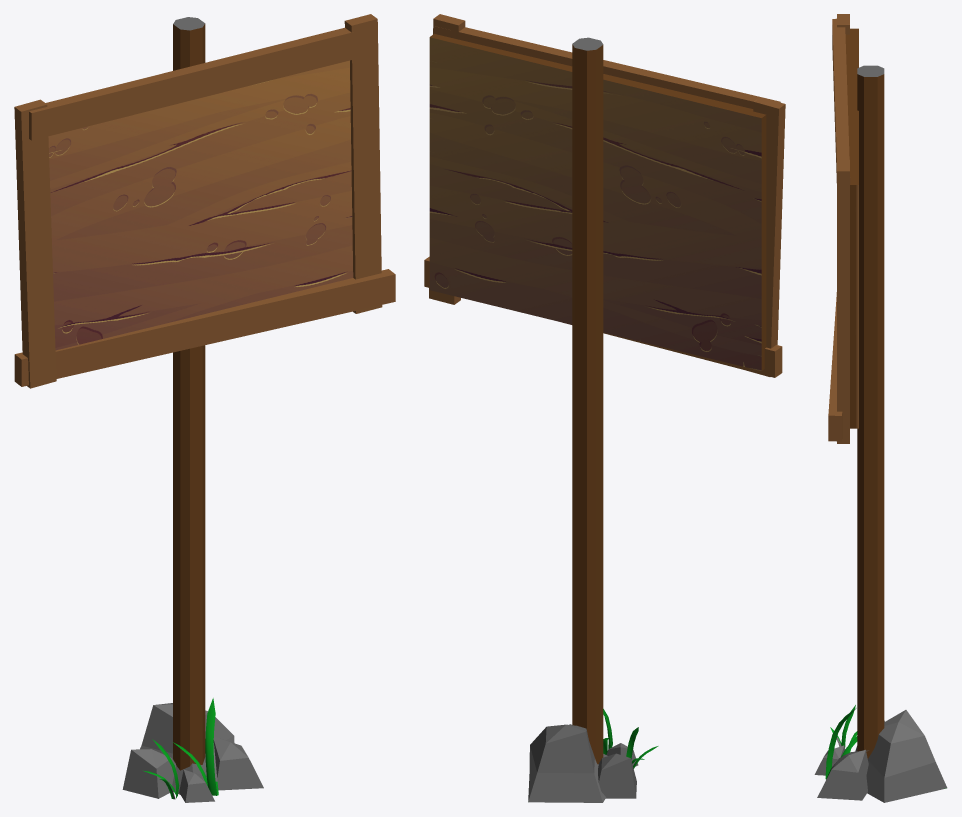
Rendered from SM_PlantNamePlate.fbx.
3 renders of one model, left to right at view 1: azimuth 30°, elevation 25°; view 2: azimuth 150°, elevation 25°; view 3: azimuth 270°, elevation 25°, orthographic. The views are drawn at different scales.
Parts seen in each view (by area): view 1: polySurface8; view 2: polySurface8; view 3: polySurface8.
Part boxes in pixels (box(x1,y1,x2,y2)): polySurface8: box(14, 14, 395, 802); polySurface8: box(424, 14, 785, 802); polySurface8: box(814, 14, 947, 802).
Size of the model in its own units: 10.29 by 20.15 by 3.43.
Materials: 1 (1 with a texture image).
